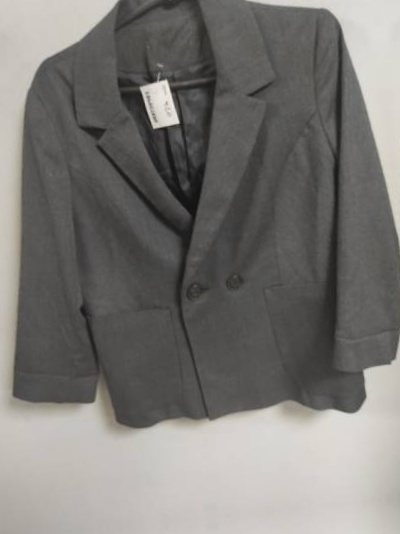Blazer: (0, 0, 400, 464), (384, 0, 400, 422)
